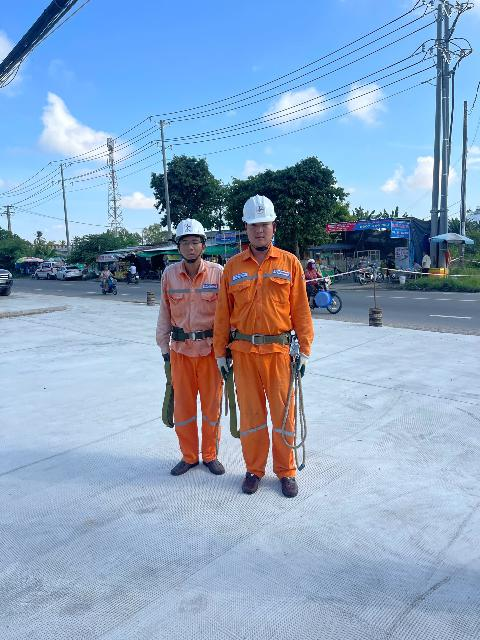gloves: (292, 351, 320, 377), (214, 352, 234, 373)
harness: (228, 319, 303, 352), (162, 320, 224, 346)
helmet: (237, 191, 279, 229), (169, 217, 212, 240)
shoes: (272, 470, 305, 499), (199, 450, 233, 478), (162, 456, 200, 476), (239, 465, 262, 495)
